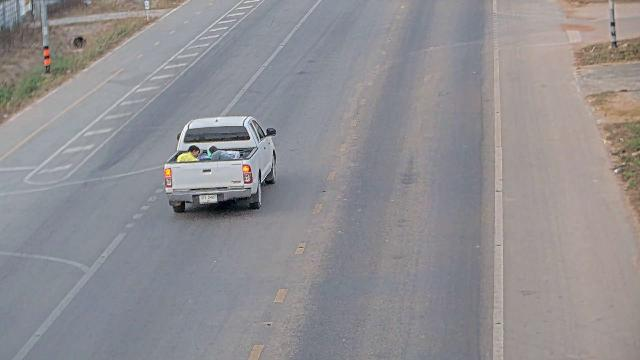pickup-truck: (162, 114, 277, 213)
